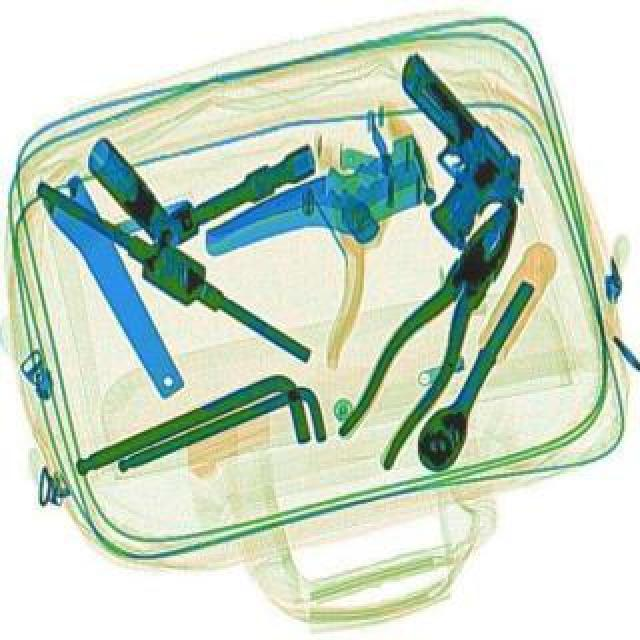gun: (326, 48, 542, 250)
wrench: (328, 184, 548, 470)
